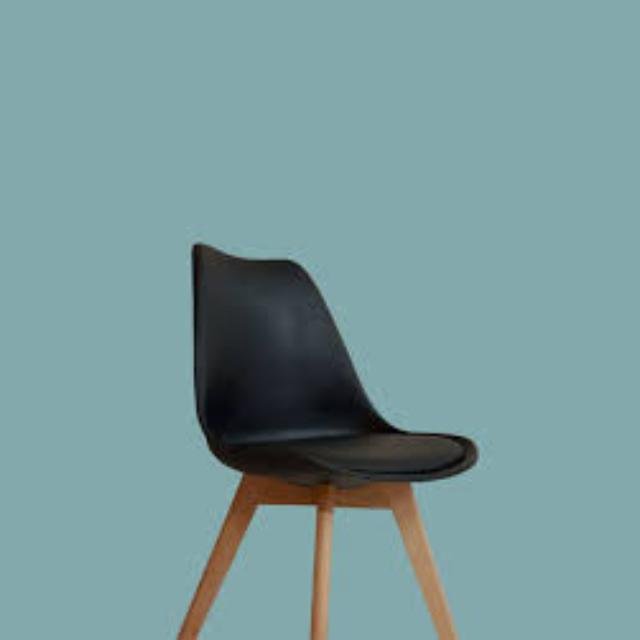obstacle: (162, 195, 500, 640)
